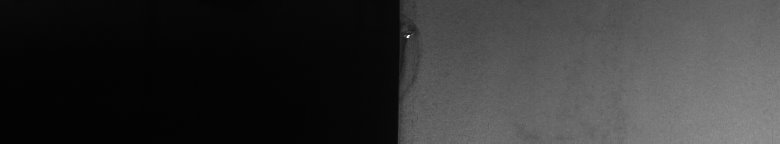hb: (408, 20, 424, 92)
